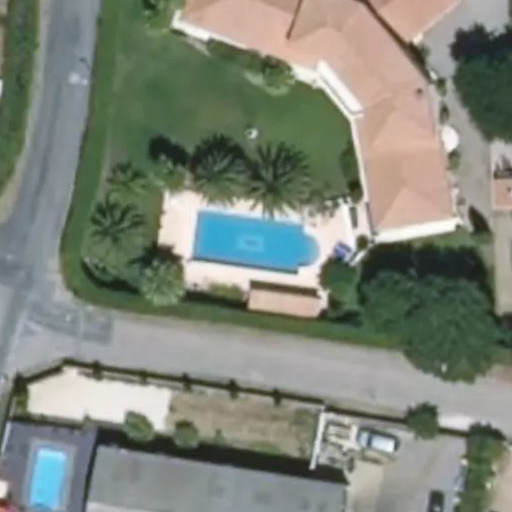pool: (187, 210, 326, 275), (32, 450, 69, 512)
